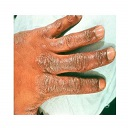Bacterial Infection: (39, 53, 88, 93)
